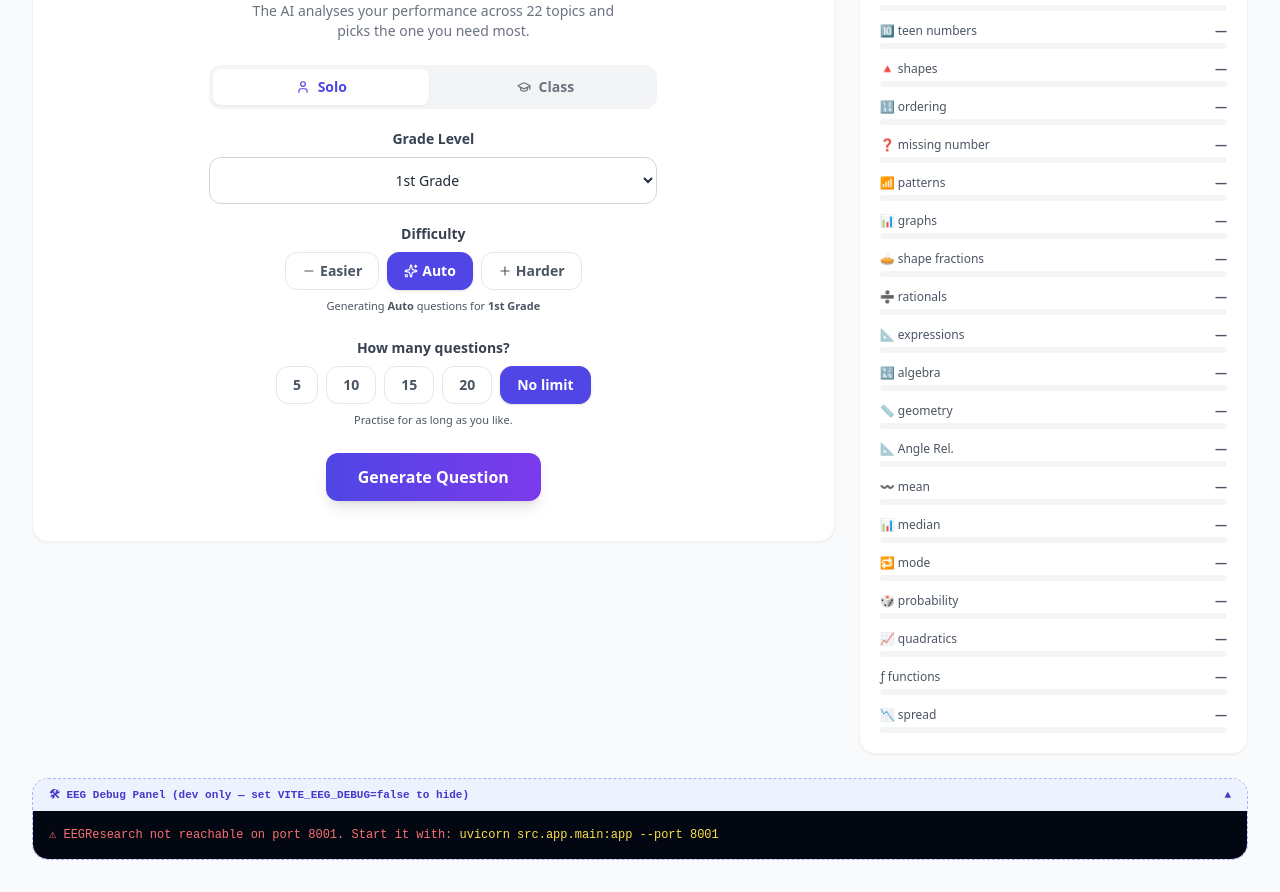
Scenario: names what the backend is not saving, and why, instead of claiming RECORDING
(page scrolled)
What coordinates should you click on to do the following:
click the button "Generate Question"
I would click on:
 (433, 476)
Its box is [326,452,541,500].
(page scrolled)
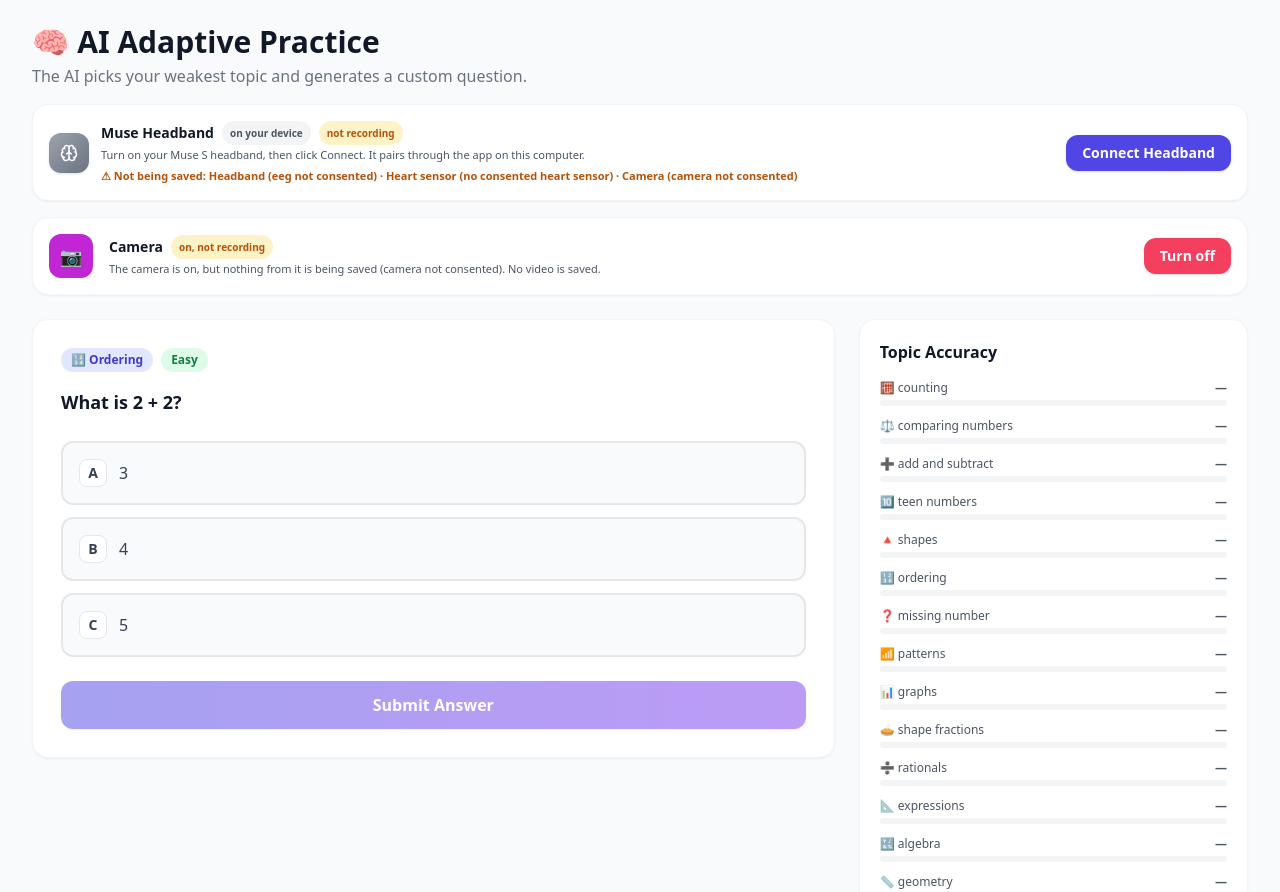
expect the text "What is 2 + 2?" is shown: met, box [61,390,182,414]
expect the text "Not being saved:" shows "Headband (eeg not consented) · Heart sensor (no consented heart sensor) · Camera (camera not consented)": met, box [209,168,797,182]
expect the text "not recording" is shown: met, box [319,121,403,145]
